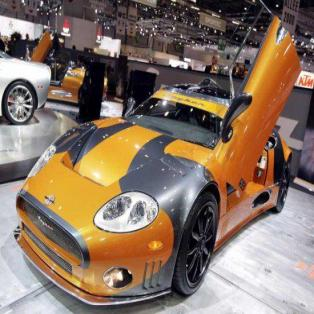Auto: (12, 10, 310, 313)
